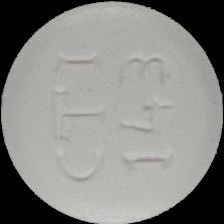50436-6500: (0, 0, 224, 224)
